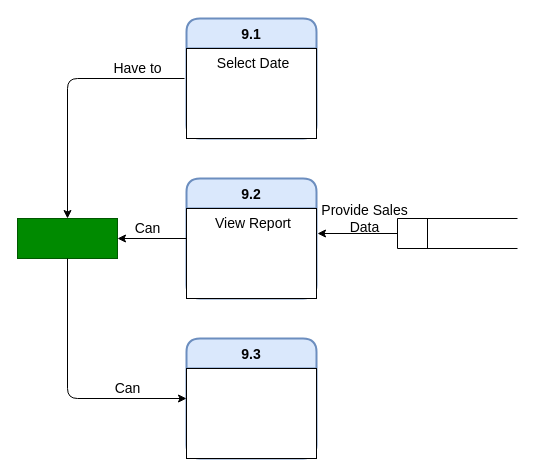
The diagram is 541 pixels wide and 476 high, and some of its shapes have lost their labels. Here are the shapes that lost their labels. From the top down, the centre of each, then its label:
(x=67, y=238): Admin
(x=457, y=233): D1 TSM Database
(x=251, y=413): Print report
